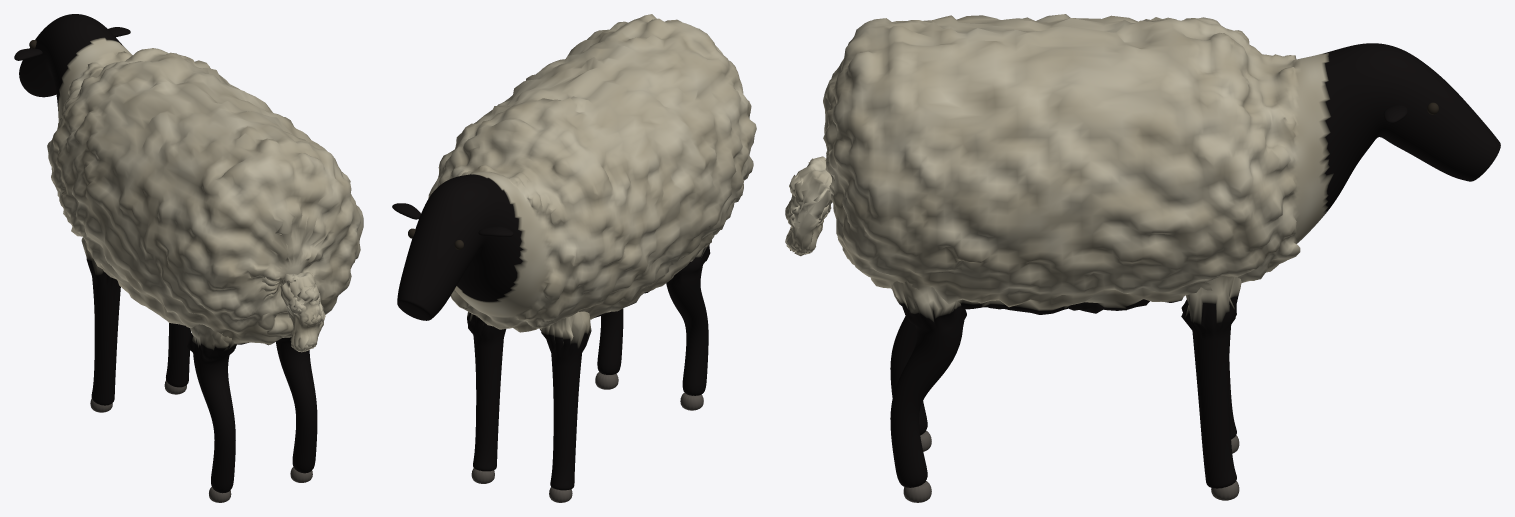
The model's file is sheep_standing.gltf.
3 renders of one model, left to right at view 1: azimuth 30°, elevation 25°; view 2: azimuth 150°, elevation 25°; view 3: azimuth 270°, elevation 25°, orthographic. The views are drawn at different scales.
Parts seen in each view (by area): view 1: sheep; view 2: sheep; view 3: sheep.
Boxes of the visible parts, box(x1,y1,x2,y2) form: sheep: box(14, 14, 363, 502); sheep: box(392, 14, 756, 502); sheep: box(785, 14, 1500, 502).
Bounding box in the file's own units: 0.5328 × 0.9203 × 1.33.
